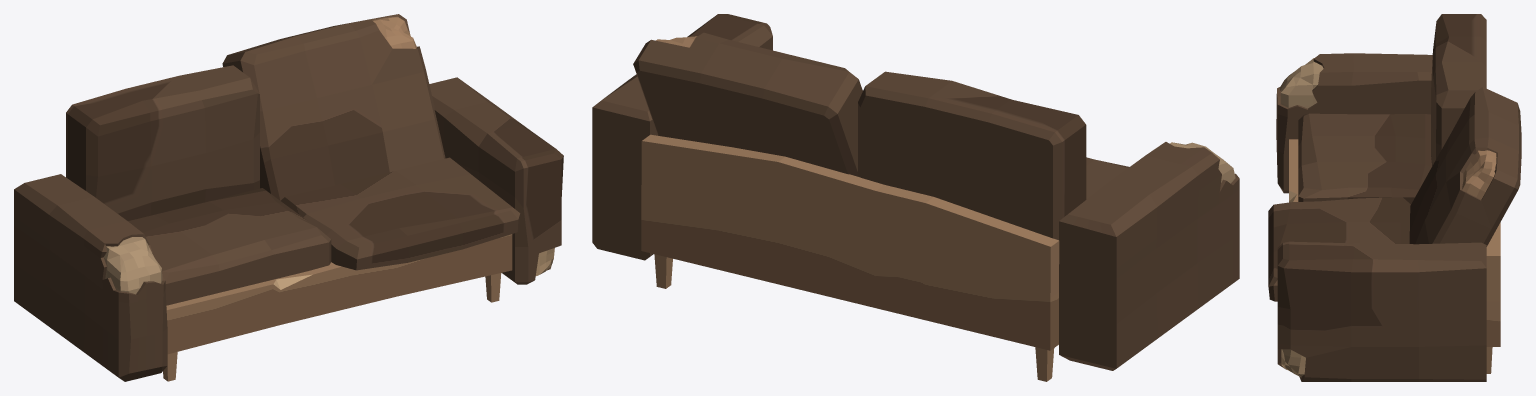
Rendered from SM_Sofa_A.gltf.
3 renders of one model, left to right at view 1: azimuth 30°, elevation 25°; view 2: azimuth 150°, elevation 25°; view 3: azimuth 270°, elevation 25°, orthographic. The views are drawn at different scales.
Parts seen in each view (by area): view 1: SM_Sofa; view 2: SM_Sofa; view 3: SM_Sofa.
Boxes of the visible parts, x1,y1,x2,y2 form: SM_Sofa: (14, 14, 563, 381); SM_Sofa: (592, 14, 1239, 381); SM_Sofa: (1268, 14, 1521, 381).
Size of the model in its own units: 2.79 by 1.3 by 1.4.
1 material, 1 textured.
